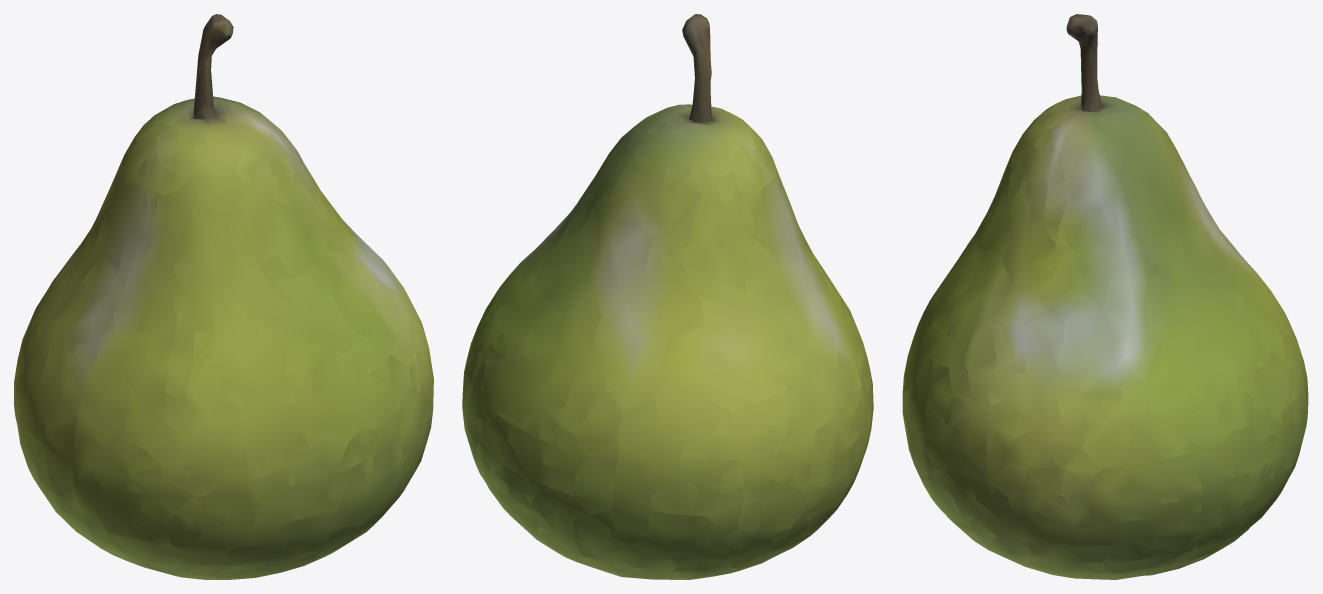
The model's file is 0006_mask_007_green_pear.glb.
The picture shows the model from 3 angles, left to right: view 1: azimuth 30°, elevation 25°; view 2: azimuth 150°, elevation 25°; view 3: azimuth 270°, elevation 25°; orthographic projection. The views are drawn at different scales.
Parts seen in each view (by area): view 1: mask_007_object; view 2: mask_007_object; view 3: mask_007_object.
Part boxes in pixels (x1=…): mask_007_object: x1=14, y1=14, x2=433, y2=579; mask_007_object: x1=462, y1=14, x2=873, y2=579; mask_007_object: x1=902, y1=14, x2=1308, y2=579.
Size of the model in its own units: 0.1046 by 0.1482 by 0.1031.
